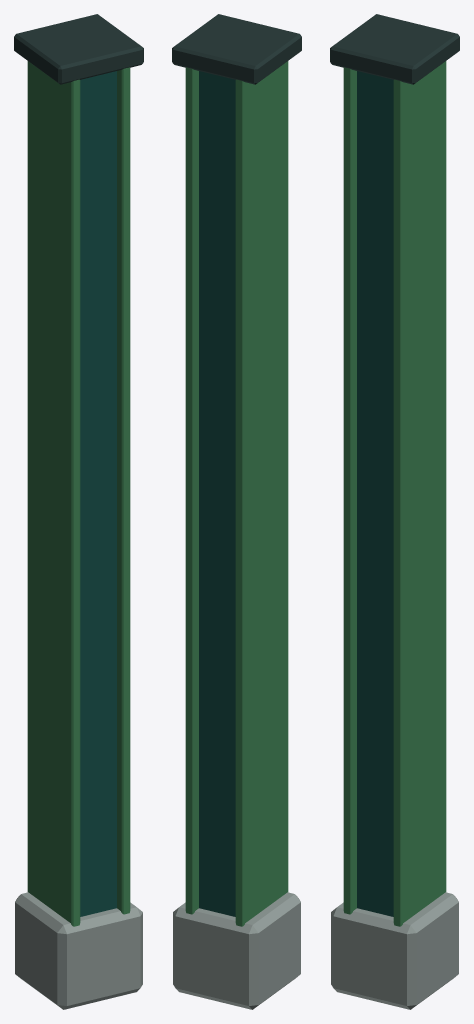
File: column.glb
3 views of the same model, side by side, from view 1: azimuth 30°, elevation 25°; view 2: azimuth 150°, elevation 25°; view 3: azimuth 330°, elevation 25° (orthographic).
Parts seen in each view (by area): view 1: Aba do perfil, Perfil de aço, Base de concreto, Capitel; view 2: Aba do perfil, Perfil de aço, Base de concreto, Capitel; view 3: Aba do perfil, Perfil de aço, Base de concreto, Capitel.
Part boxes in pixels (box(x1,y1,x2,y2)): Aba do perfil: box(27, 61, 130, 926); Perfil de aço: box(80, 71, 116, 916); Base de concreto: box(15, 892, 142, 1009); Capitel: box(14, 14, 143, 84); Aba do perfil: box(185, 61, 288, 926); Perfil de aço: box(199, 71, 235, 916); Base de concreto: box(173, 892, 300, 1009); Capitel: box(172, 14, 301, 84); Aba do perfil: box(343, 61, 446, 926); Perfil de aço: box(357, 71, 393, 916); Base de concreto: box(331, 892, 458, 1009); Capitel: box(330, 14, 459, 84).
Size of the model in its own units: 0.36 by 3.79 by 0.36.
